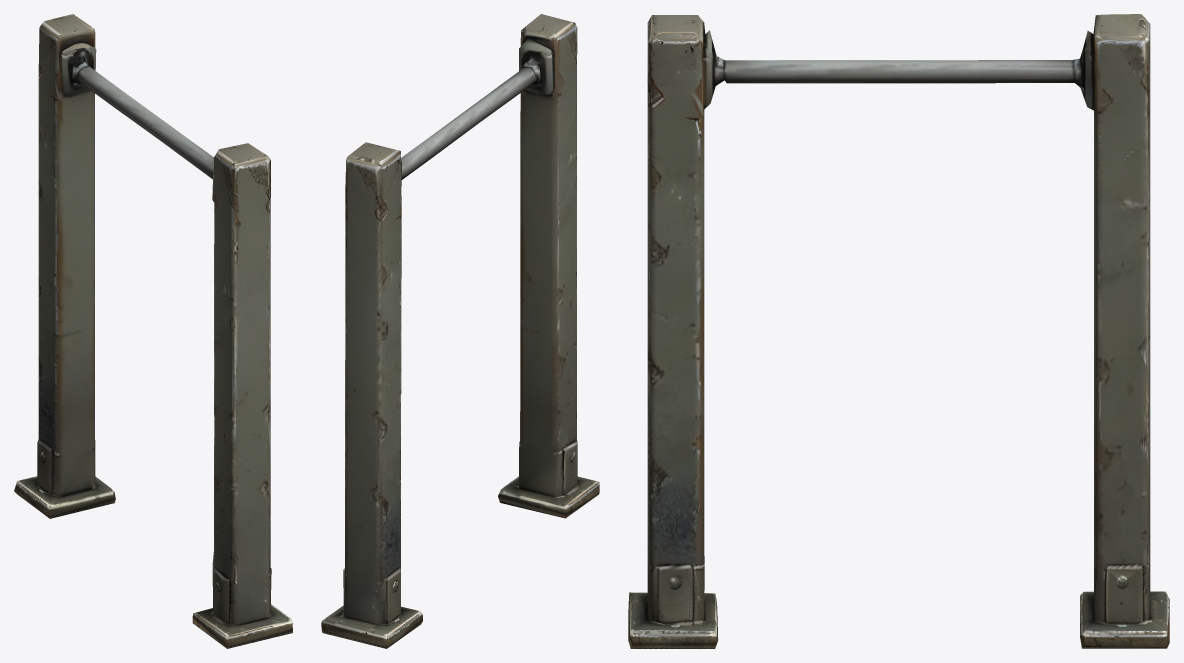
File: tripo_convert_92e4fa35-66ba-4e1c-9338-e8fab3a1954b.fbx
3 views of the same model, side by side, from view 1: azimuth 30°, elevation 25°; view 2: azimuth 150°, elevation 25°; view 3: azimuth 270°, elevation 25° (orthographic). The views are drawn at different scales.
Visible parts, largest first — view 1: tripo_node_92e4fa35; view 2: tripo_node_92e4fa35; view 3: tripo_node_92e4fa35.
Part boxes in pixels (x1,y1,x2,y2): tripo_node_92e4fa35: [14, 14, 292, 648]; tripo_node_92e4fa35: [321, 14, 599, 648]; tripo_node_92e4fa35: [628, 14, 1169, 648].
Size of the model in its own units: 0.1502 by 0.9999 by 0.811.
1 material, 1 textured.
